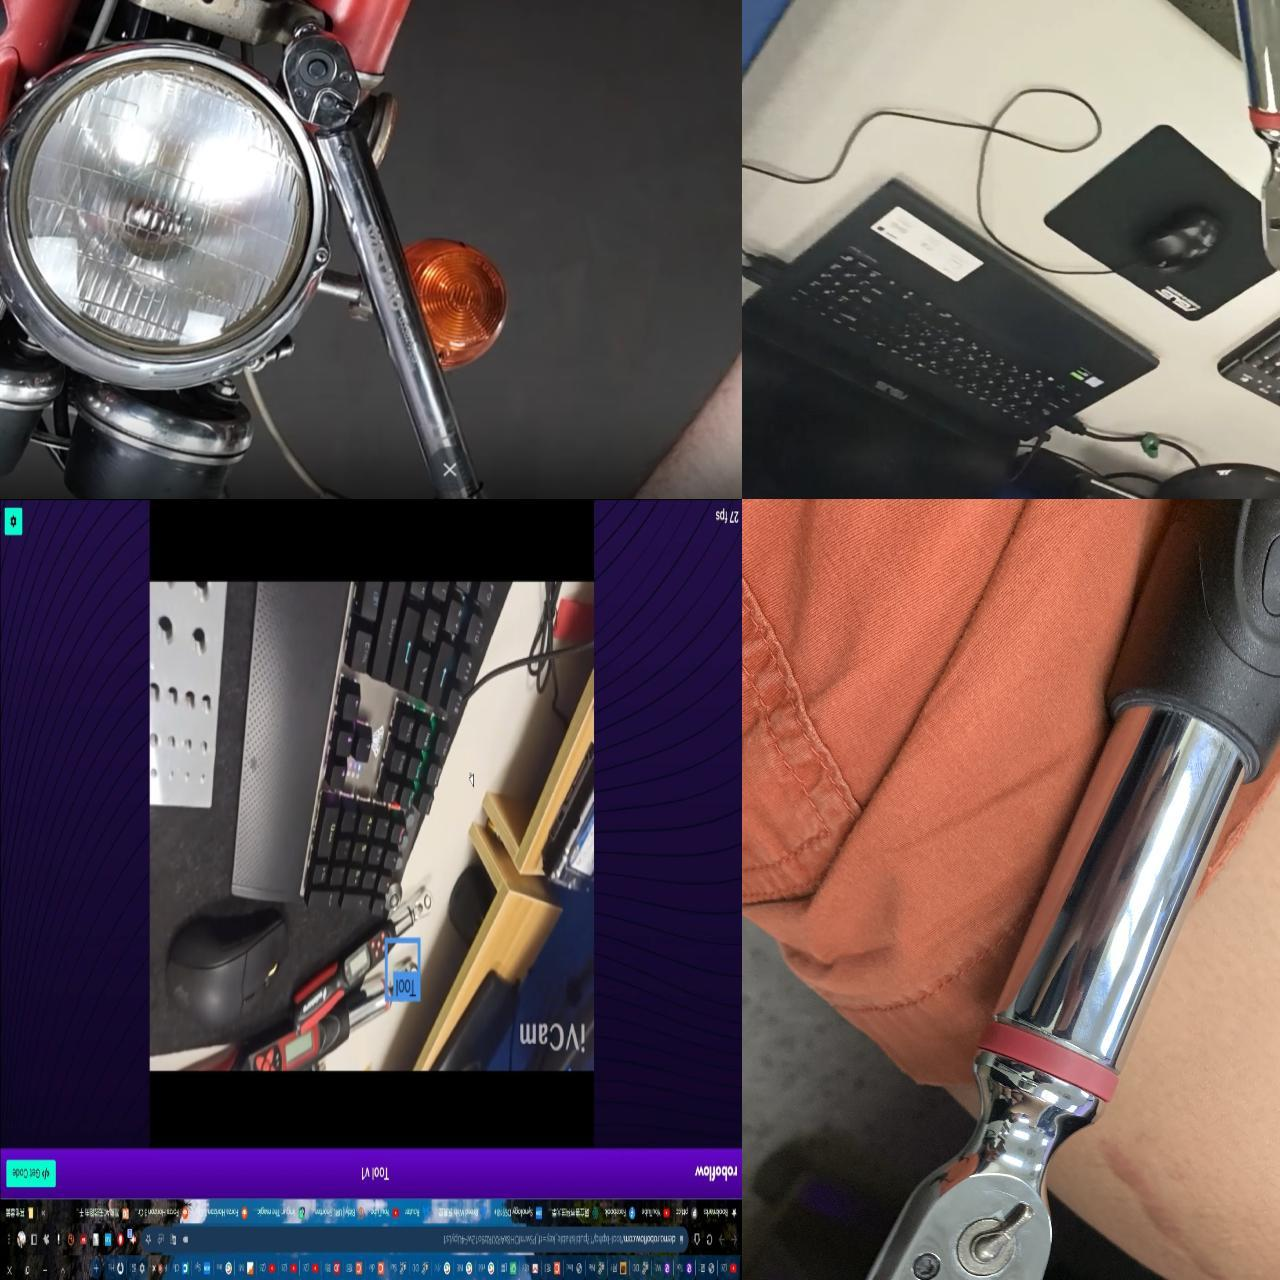Tool: (847, 1054, 1110, 1280), (282, 29, 358, 127), (1242, 120, 1280, 282), (409, 887, 435, 921)
